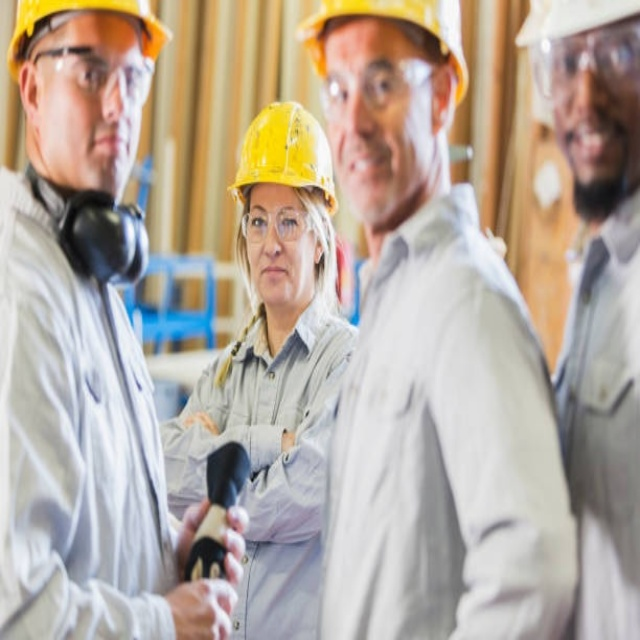Gafas: (30, 35, 156, 110), (530, 24, 638, 100), (323, 52, 444, 108), (237, 204, 317, 243)
Sin_guantes: (174, 491, 250, 579), (164, 571, 236, 637)
Sin_mascara: (343, 141, 401, 212), (565, 115, 619, 188), (82, 119, 134, 185), (252, 254, 293, 303)
